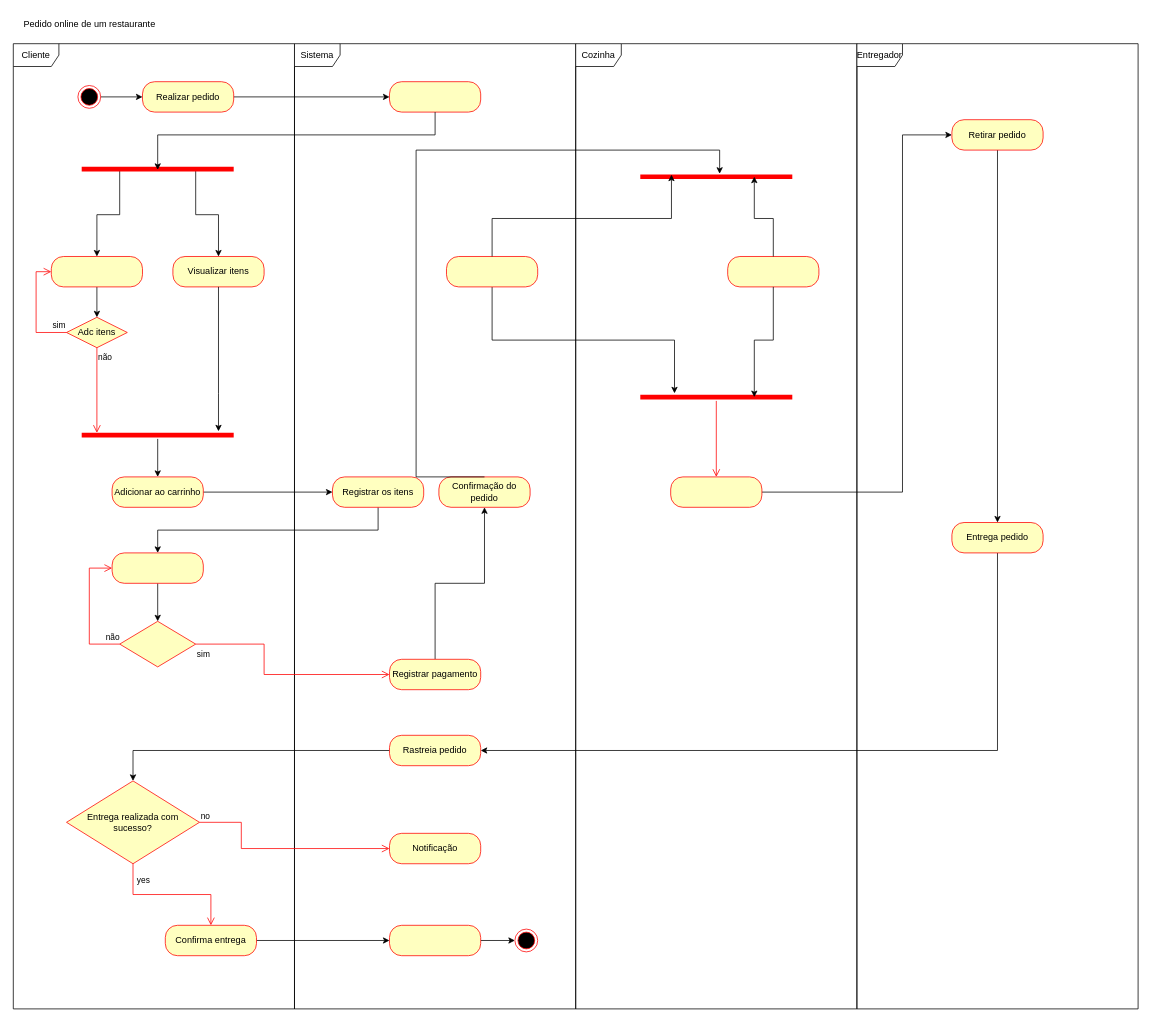
The diagram is 1151 pixels wide and 1022 high, and some of its shapes have lost their labels. Each missing label, with the centre of its shape:
Exibe cardápio: (435,96)
Mostrar pedido: (492,271)
pagamento aprovado?: (157,644)
Pedido finalizado: (716,491)
Realiza o pedido: (773,271)
Realizar pagamento: (157,567)
Registra entrega: (435,940)
Selecionar itens: (96,271)
